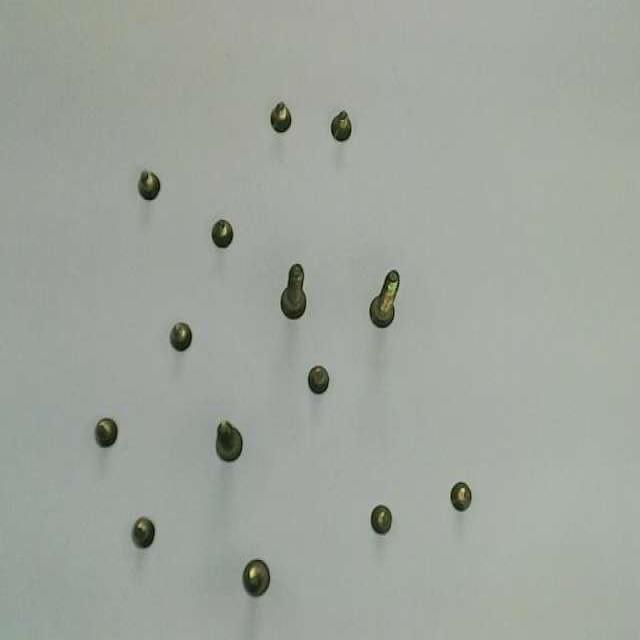Parafuso: (370, 269, 398, 327), (281, 264, 305, 317), (216, 420, 242, 460), (243, 559, 268, 596), (450, 481, 471, 511), (170, 321, 191, 351), (211, 219, 233, 247), (132, 517, 152, 547), (95, 417, 116, 445), (139, 171, 160, 199), (270, 103, 290, 132), (308, 365, 329, 392), (331, 111, 350, 140), (372, 505, 391, 533)
